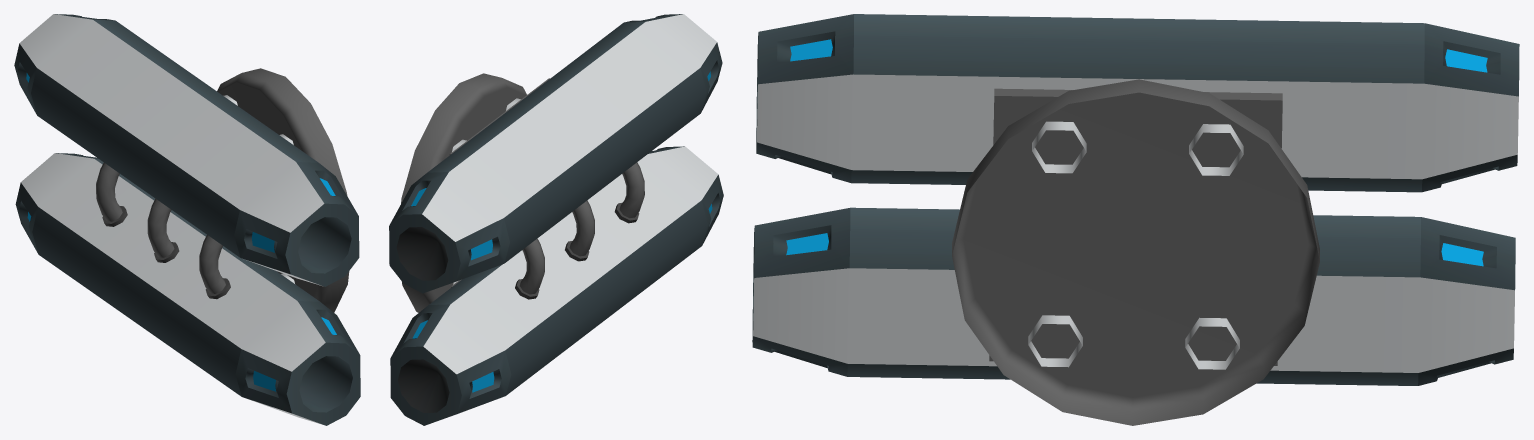
File: Turret_007_Gun_01.fbx
3 renders of one model, left to right at view 1: azimuth 30°, elevation 25°; view 2: azimuth 150°, elevation 25°; view 3: azimuth 270°, elevation 25°, orthographic. The views are drawn at different scales.
Visible parts, largest first — view 1: Turret_007_Gun_01; view 2: Turret_007_Gun_01; view 3: Turret_007_Gun_01.
Boxes of the visible parts, x1,y1,x2,y2 form: Turret_007_Gun_01: (14,14,360,425); Turret_007_Gun_01: (389,14,723,425); Turret_007_Gun_01: (752,14,1519,425).
Bounding box in the file's own units: 39.29 × 121 × 63.59.
